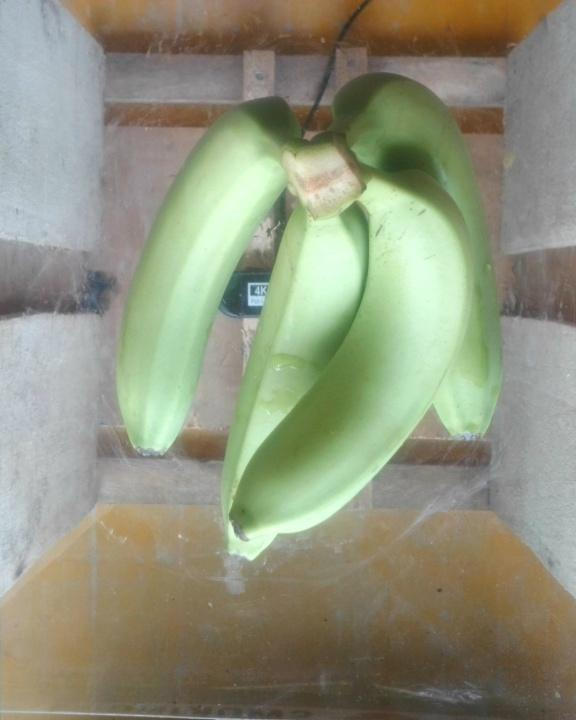SPOT: (111, 73, 520, 567)
